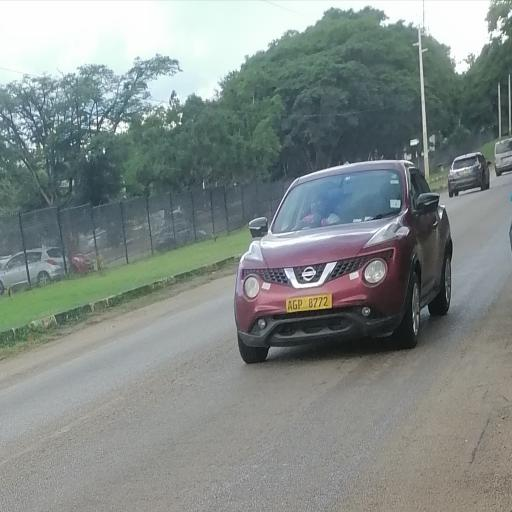number-plates: (284, 292, 334, 308)
